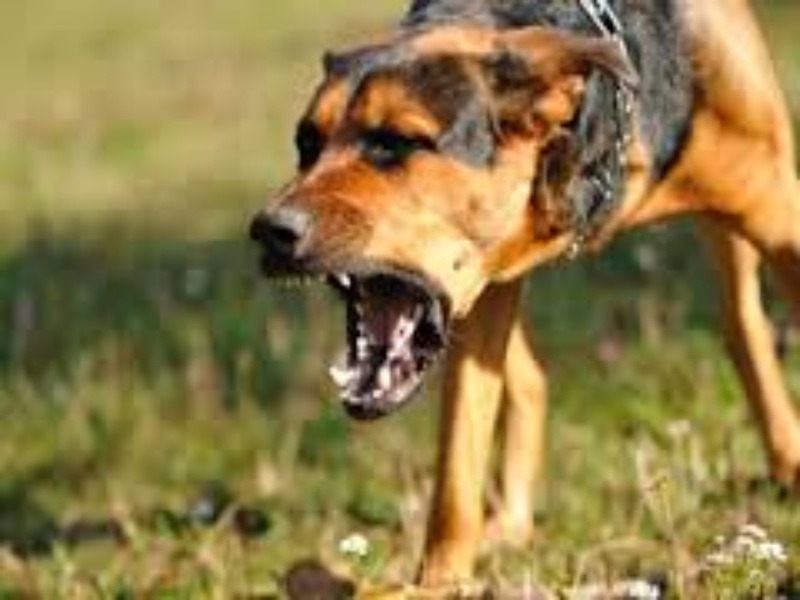dog: (131, 10, 798, 572)
